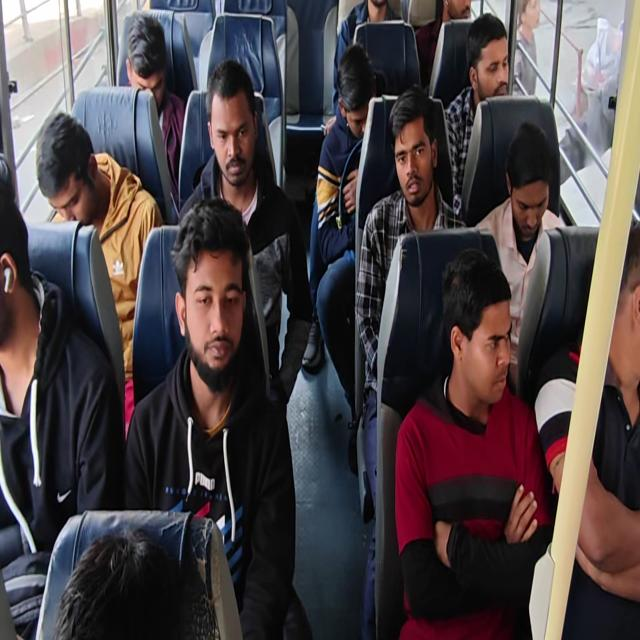person: (1, 2, 638, 638), (123, 196, 307, 638), (394, 246, 556, 638), (354, 85, 467, 638), (0, 152, 125, 638), (177, 59, 313, 412), (534, 218, 640, 638), (35, 111, 164, 439), (311, 42, 378, 472), (473, 121, 566, 394), (53, 527, 183, 639), (444, 12, 510, 216), (124, 13, 185, 211), (558, 16, 624, 175), (326, 0, 402, 132), (414, 0, 471, 89), (512, 0, 540, 95)
